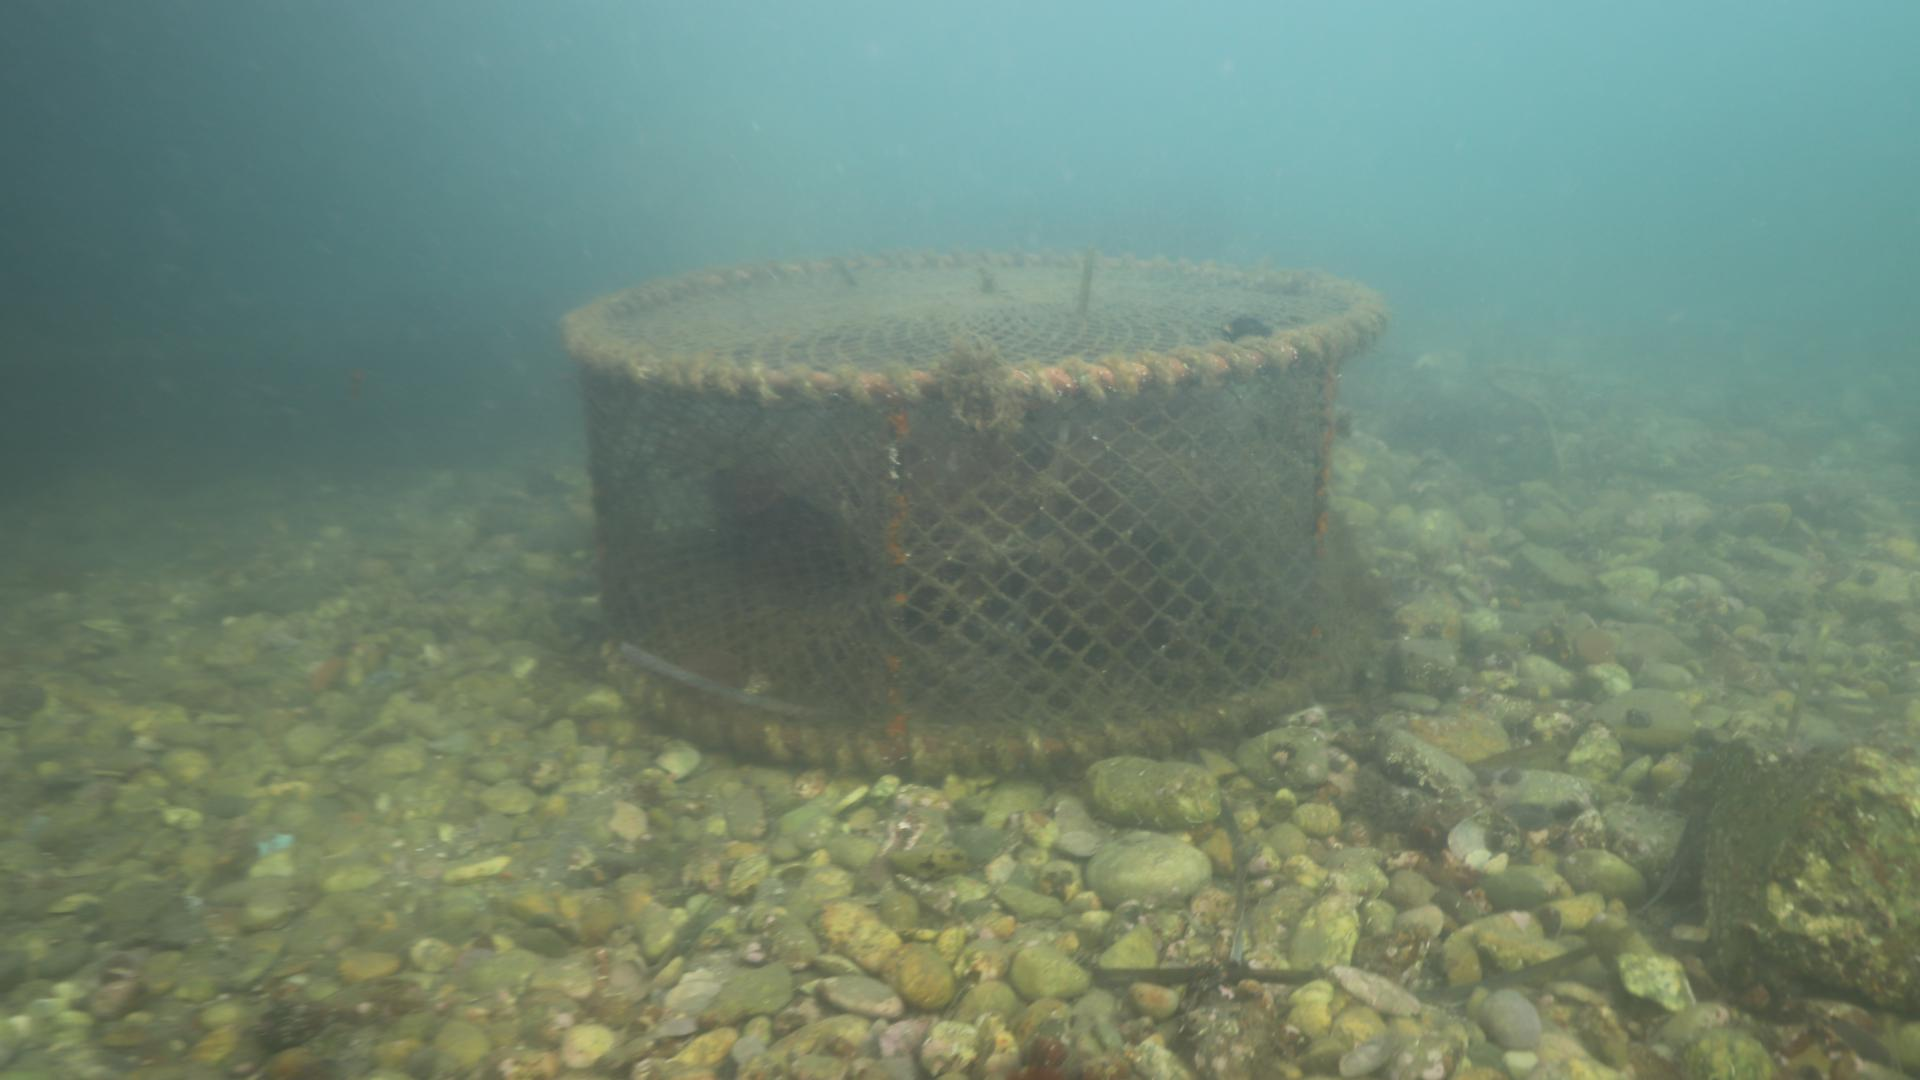circular fish trap: (563, 251, 1393, 782)
